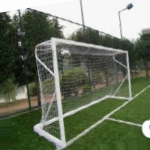goals: (33, 35, 132, 146)
